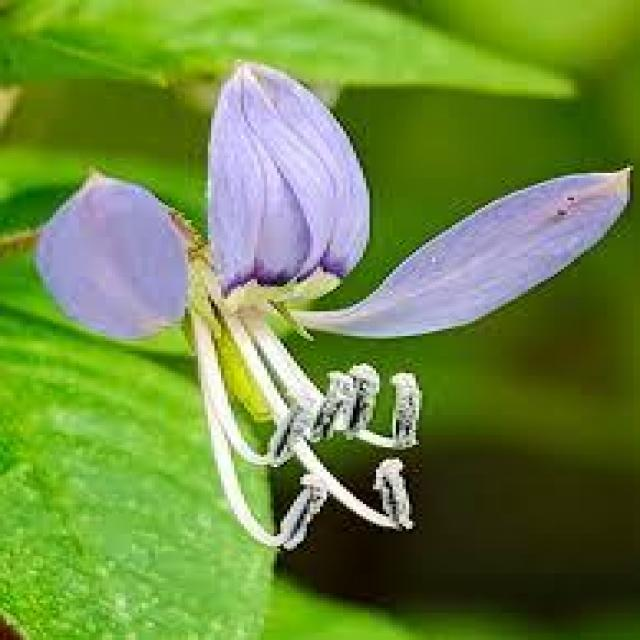organic waste: (31, 62, 622, 534)
